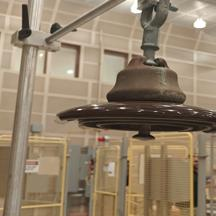insulator: (49, 47, 216, 157)
